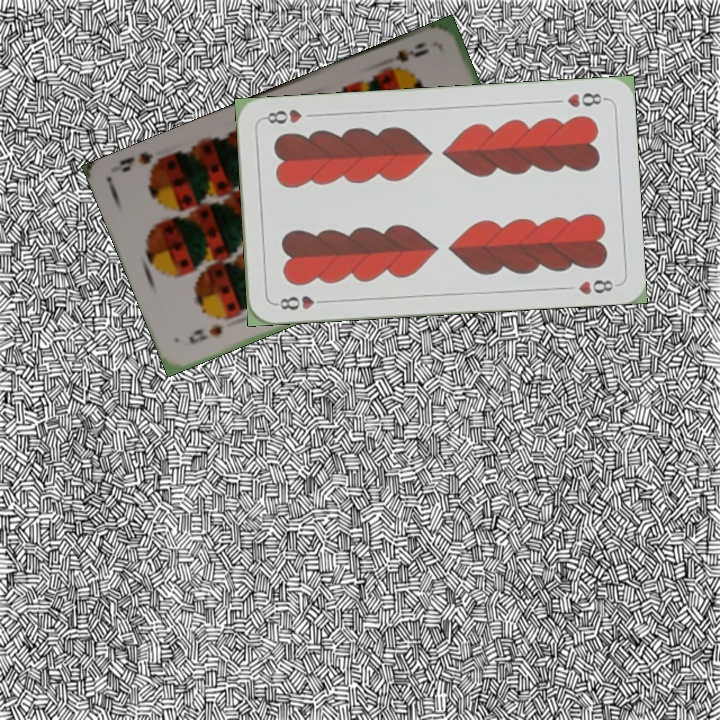H8: (271, 291, 330, 313), (563, 89, 609, 111)
S9: (382, 38, 432, 75), (184, 321, 227, 347)
